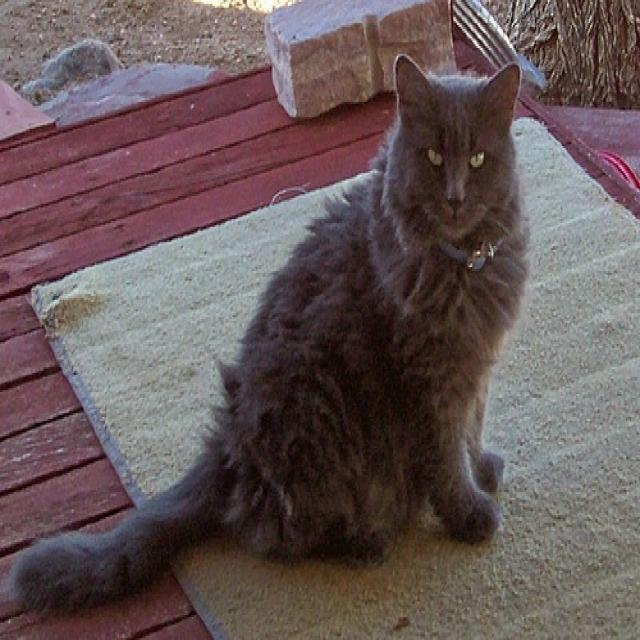cat: (10, 53, 531, 614)
